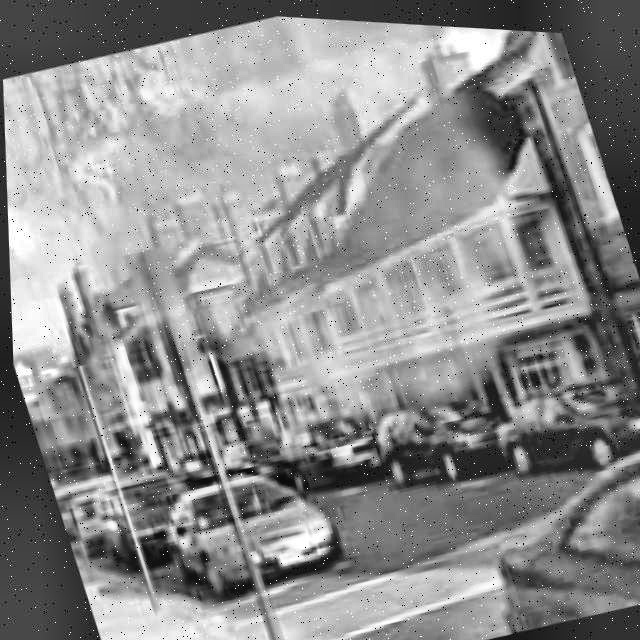Smoke: (4, 0, 589, 508)
